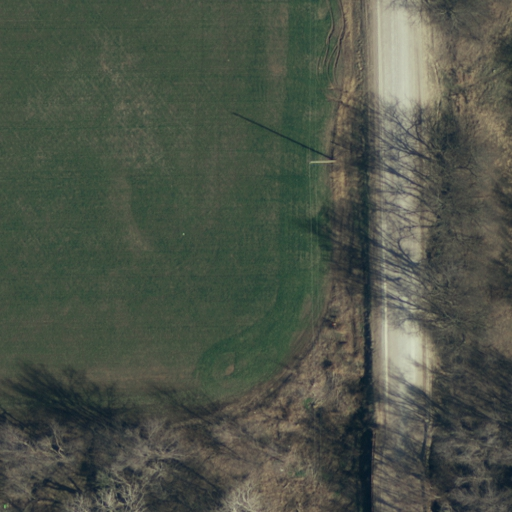DT: (304, 151, 340, 173)
